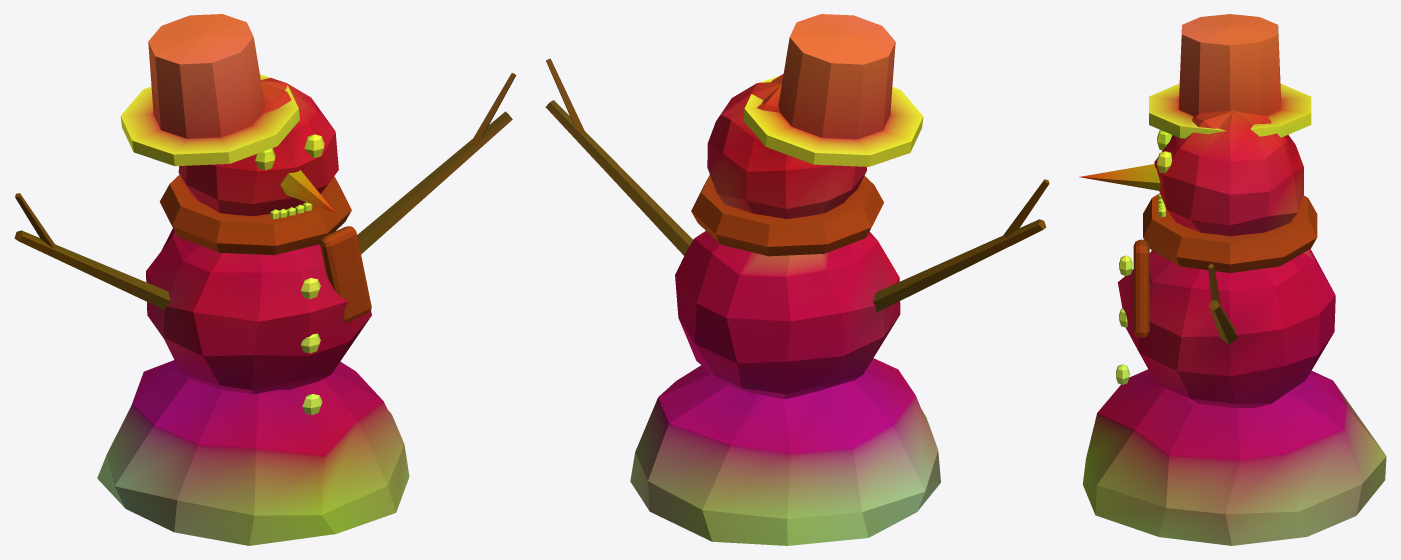
The model's file is Snowman_01.fbx.
3 renders of one model, left to right at view 1: azimuth 30°, elevation 25°; view 2: azimuth 150°, elevation 25°; view 3: azimuth 270°, elevation 25°, orthographic. The views are drawn at different scales.
Visible parts, largest first — view 1: Snowman_01; view 2: Snowman_01; view 3: Snowman_01.
Part boxes in pixels (bbox=[...]): Snowman_01: bbox=[14, 14, 516, 545]; Snowman_01: bbox=[545, 14, 1049, 545]; Snowman_01: bbox=[1079, 14, 1386, 545].
Size of the model in its own units: 1.74 by 1.52 by 0.9753.
